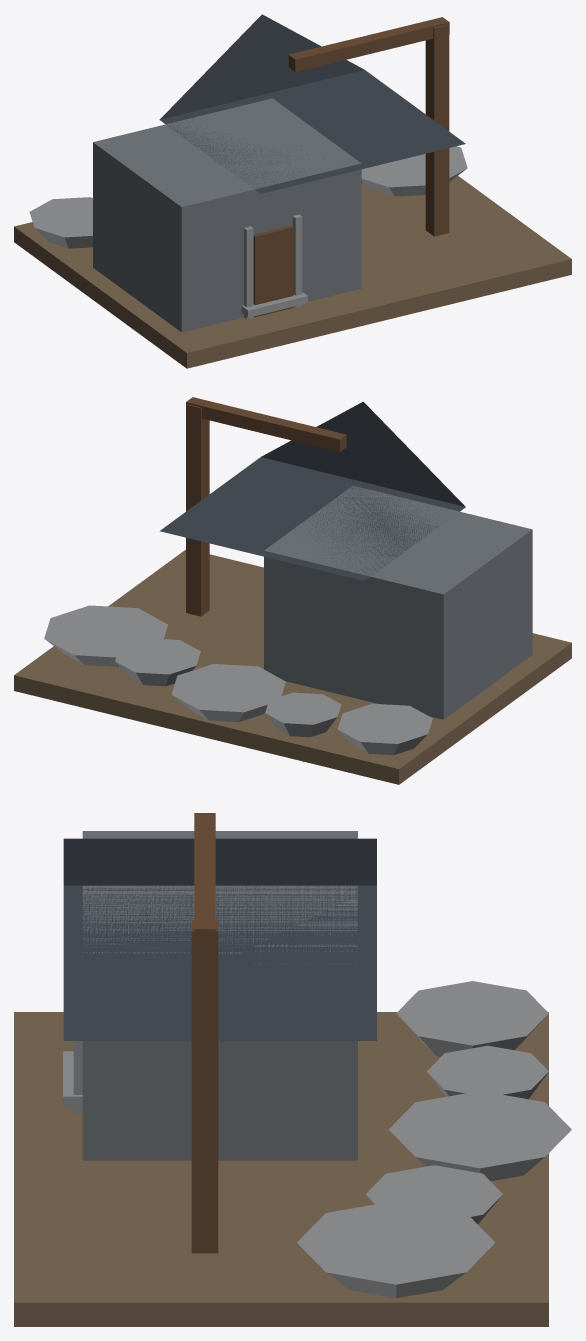
Rendered from quarry.glb.
The picture shows the model from 3 angles, top to bottom: view 1: azimuth 30°, elevation 25°; view 2: azimuth 150°, elevation 25°; view 3: azimuth 270°, elevation 25°; orthographic projection. The views are drawn at different scales.
Visible parts, largest first — view 1: QuarryOffice, QuarryBase, QuarryRoof, HoistTower, HoistArm, Door, RockPile0, RockPile4, DoorFrameR, DoorFrameL, Threshold; view 2: QuarryOffice, QuarryBase, QuarryRoof, RockPile4, RockPile2, HoistTower, RockPile0, RockPile3, HoistArm, RockPile1; view 3: QuarryBase, QuarryRoof, QuarryOffice, RockPile4, RockPile2, HoistTower, RockPile0, RockPile3, RockPile1, HoistArm, Threshold.
Part boxes in pixels (x1=…): QuarryOffice: x1=93, y1=98, x2=361, y2=332; QuarryBase: x1=14, y1=176, x2=571, y2=368; QuarryRoof: x1=159, y1=14, x2=465, y2=193; HoistTower: x1=425, y1=24, x2=449, y2=236; HoistArm: x1=288, y1=17, x2=449, y2=71; Door: x1=253, y1=225, x2=293, y2=317; RockPile0: x1=29, y1=197, x2=92, y2=248; RockPile4: x1=361, y1=146, x2=467, y2=196; DoorFrameR: x1=292, y1=214, x2=302, y2=307; DoorFrameL: x1=244, y1=226, x2=253, y2=319; Threshold: x1=241, y1=292, x2=307, y2=317; QuarryOffice: x1=264, y1=485, x2=532, y2=719; QuarryBase: x1=14, y1=549, x2=571, y2=784; QuarryRoof: x1=159, y1=401, x2=465, y2=581; RockPile4: x1=44, y1=605, x2=167, y2=666; RockPile2: x1=171, y1=664, x2=285, y2=721; HoistTower: x1=186, y1=404, x2=209, y2=616; RockPile0: x1=337, y1=703, x2=432, y2=755; RockPile3: x1=115, y1=639, x2=200, y2=686; HoistArm: x1=186, y1=397, x2=346, y2=451; RockPile1: x1=265, y1=692, x2=341, y2=762; QuarryBase: x1=14, y1=1012, x2=548, y2=1326; QuarryRoof: x1=63, y1=838, x2=376, y2=1040; QuarryOffice: x1=82, y1=831, x2=357, y2=1160; RockPile4: x1=297, y1=1200, x2=495, y2=1298; RockPile2: x1=388, y1=1093, x2=571, y2=1181; HoistTower: x1=191, y1=920, x2=218, y2=1253; RockPile0: x1=396, y1=981, x2=548, y2=1056; RockPile3: x1=366, y1=1165, x2=502, y2=1224; RockPile1: x1=427, y1=1045, x2=548, y2=1099; HoistArm: x1=194, y1=813, x2=215, y2=948; Threshold: x1=63, y1=1051, x2=82, y2=1107.
Bounding box in the file's own units: 9.4 × 5.49 × 7.3.
